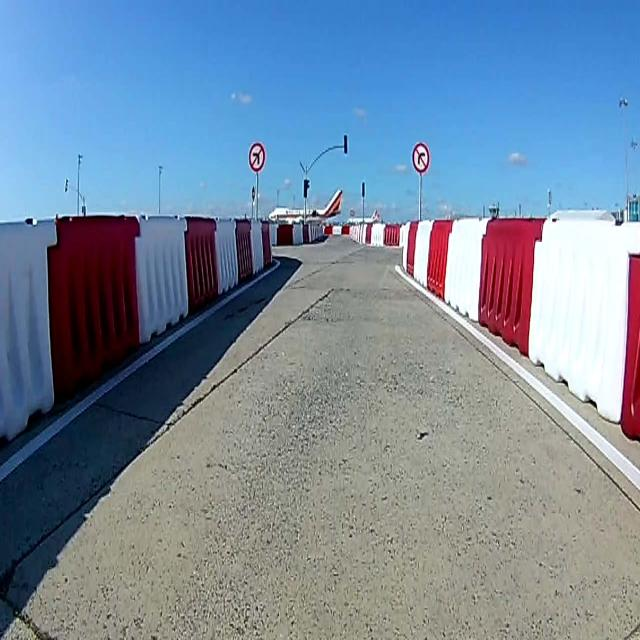sagadonulmez: (411, 144, 430, 176)
soladonulmez: (249, 142, 265, 170)
